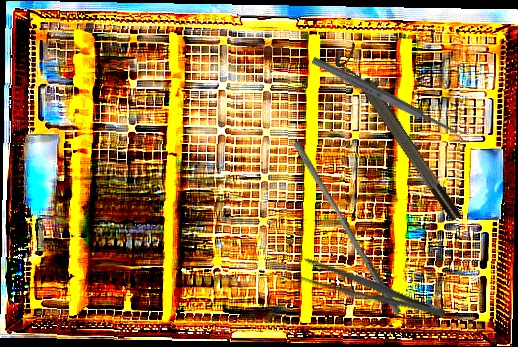Dressing Forceps: (286, 254, 449, 326)
Fixation Ring: (330, 42, 465, 228)
Pusher: (287, 139, 408, 316)
Surgical Spoon: (310, 55, 469, 143)
